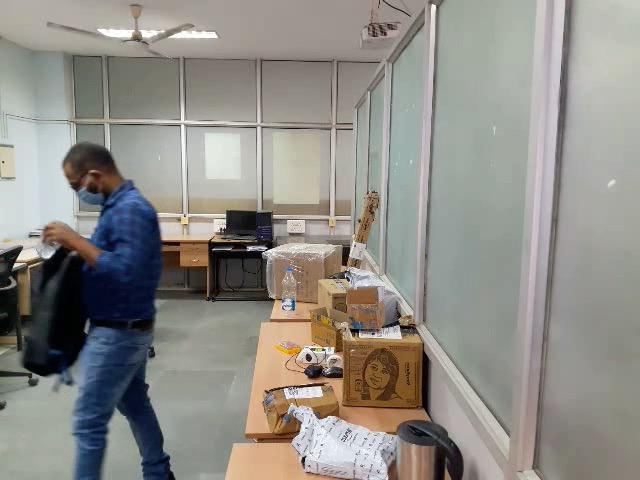shoplifting: (6, 201, 143, 409)
